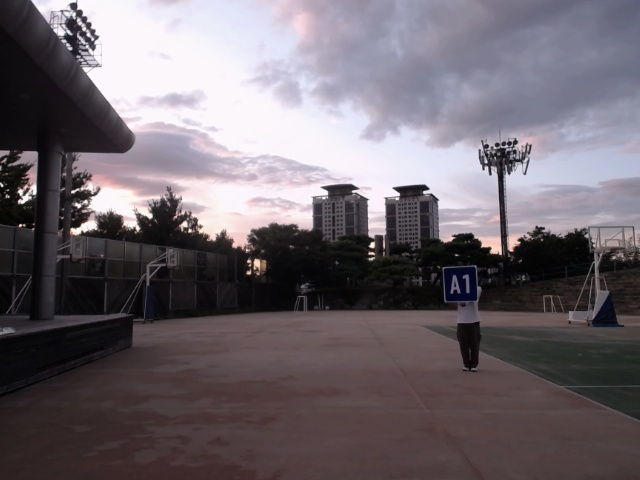delivery_a1: (443, 266, 477, 302)
